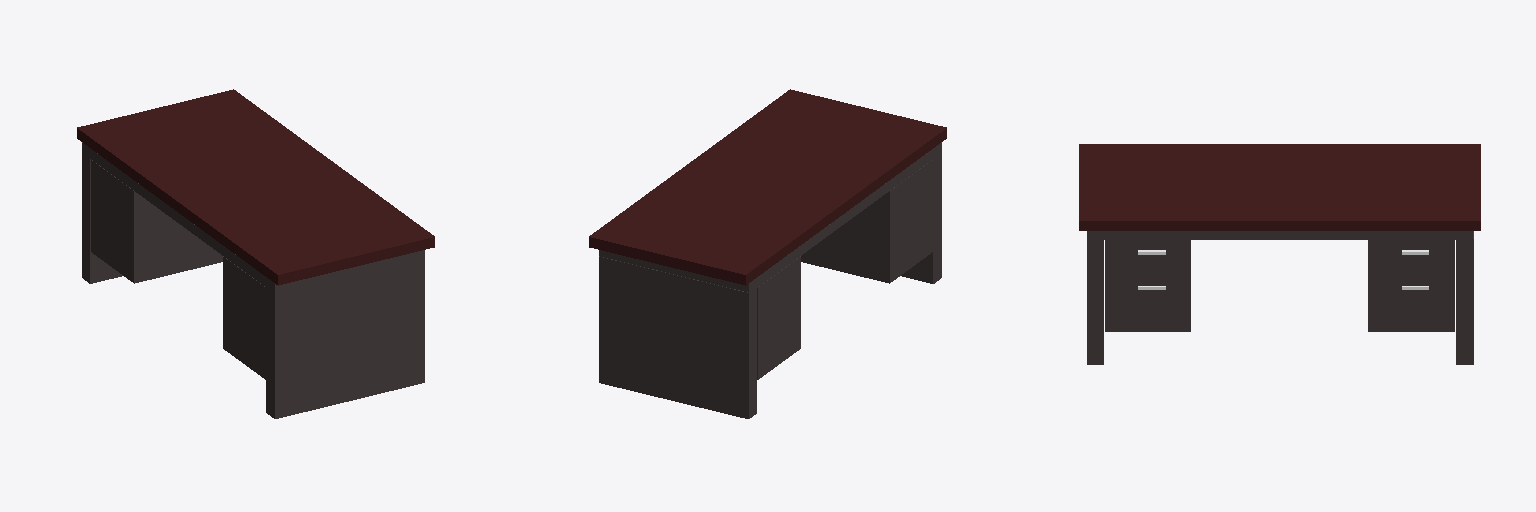
The model's file is Desk.obj.
3 views of the same model, side by side, from view 1: azimuth 30°, elevation 25°; view 2: azimuth 150°, elevation 25°; view 3: azimuth 270°, elevation 25° (orthographic).
Visible parts, largest first — view 1: desk2; view 2: desk2; view 3: desk2.
Boxes of the visible parts, box(x1,y1,x2,y2) form: desk2: box(77, 89, 434, 418); desk2: box(589, 89, 946, 418); desk2: box(1079, 144, 1480, 364).
Bounding box in the file's own units: 2.1 × 1.88 × 4.65.